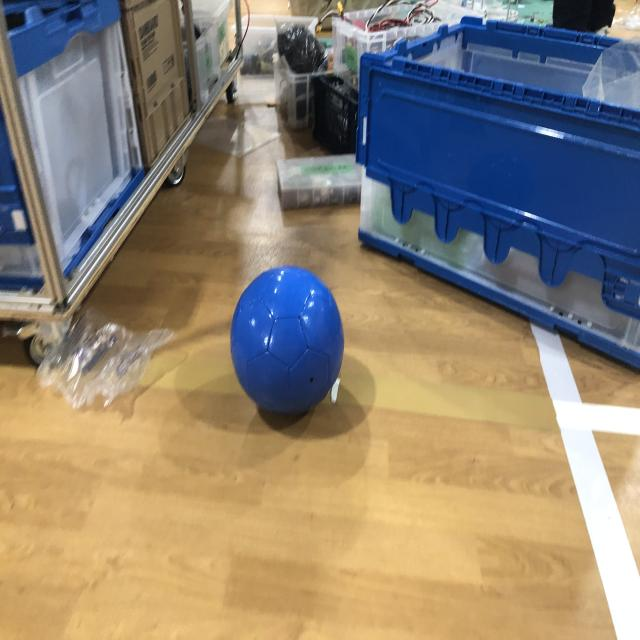blue_ball: (237, 269, 340, 419)
